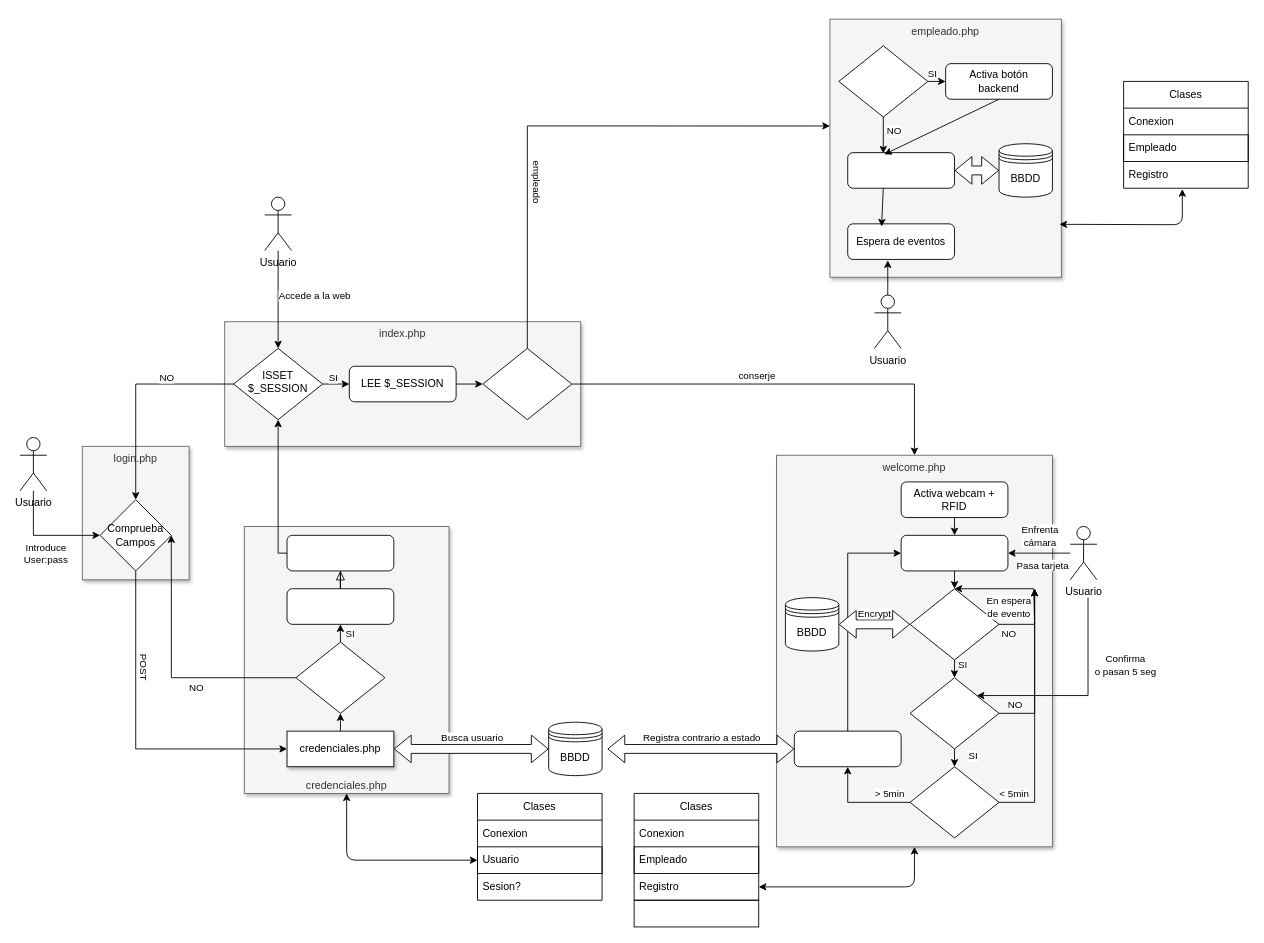
This 1264x943 diagram has some shape labels left out. Here are the shapes that lost their labels. From the top down, the centre of each, then its label:
[883,81]: Comprueba rol admin
[901,170]: Carga de datos mes
[527,384]: Comprobar ['Rol']
[340,552]: Graba $_SESSION
[954,552]: Inicia reconocimiento
[340,606]: Define cookies
[954,624]: Detecta y compara
[340,677]: Password_verify
[954,713]: Reconoce
[847,748]: Registro horario
[954,802]: Última entrada
[696,913]: Bio
